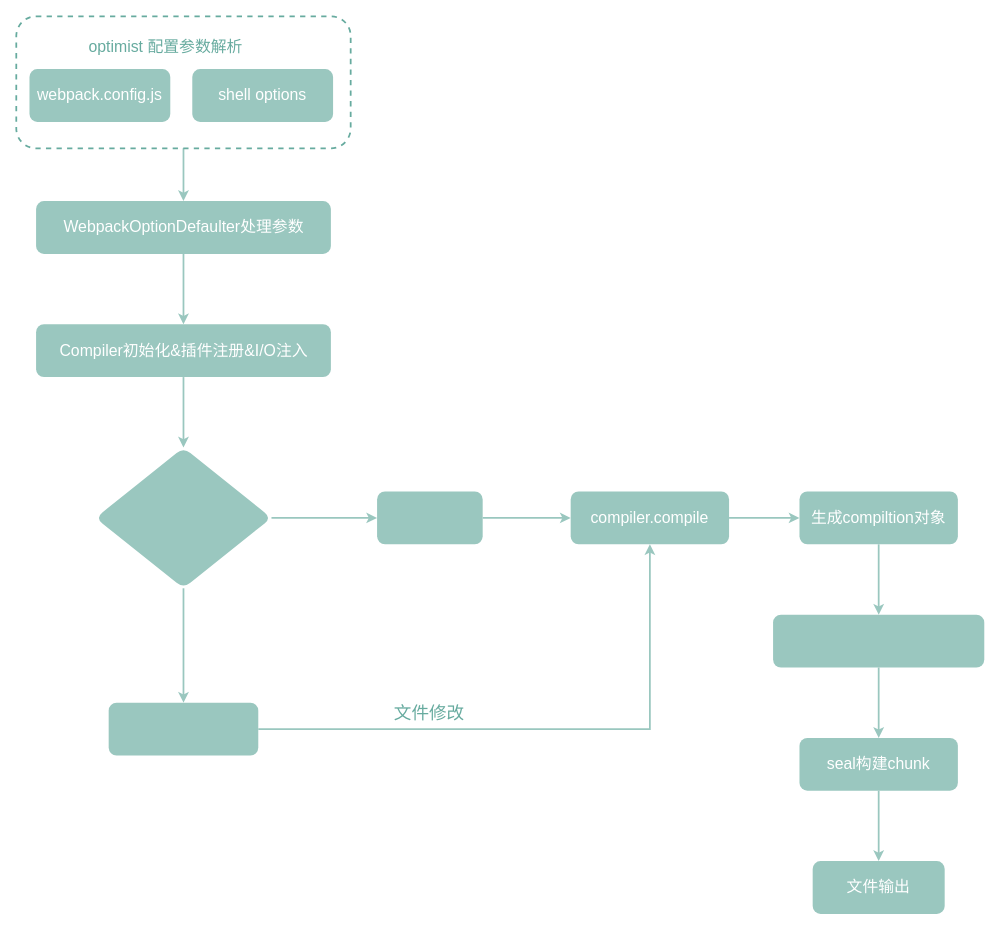
Image size: 999x928. Some labels were removed from this diagram. Here are the shapes that lost their labels. From the top down, the centre of each, then its label:
(x=183, y=517): option.watcher?
(x=429, y=517): compiler.run
(x=878, y=640): make创建模块&依赖收集
(x=183, y=728): compiler.watch
